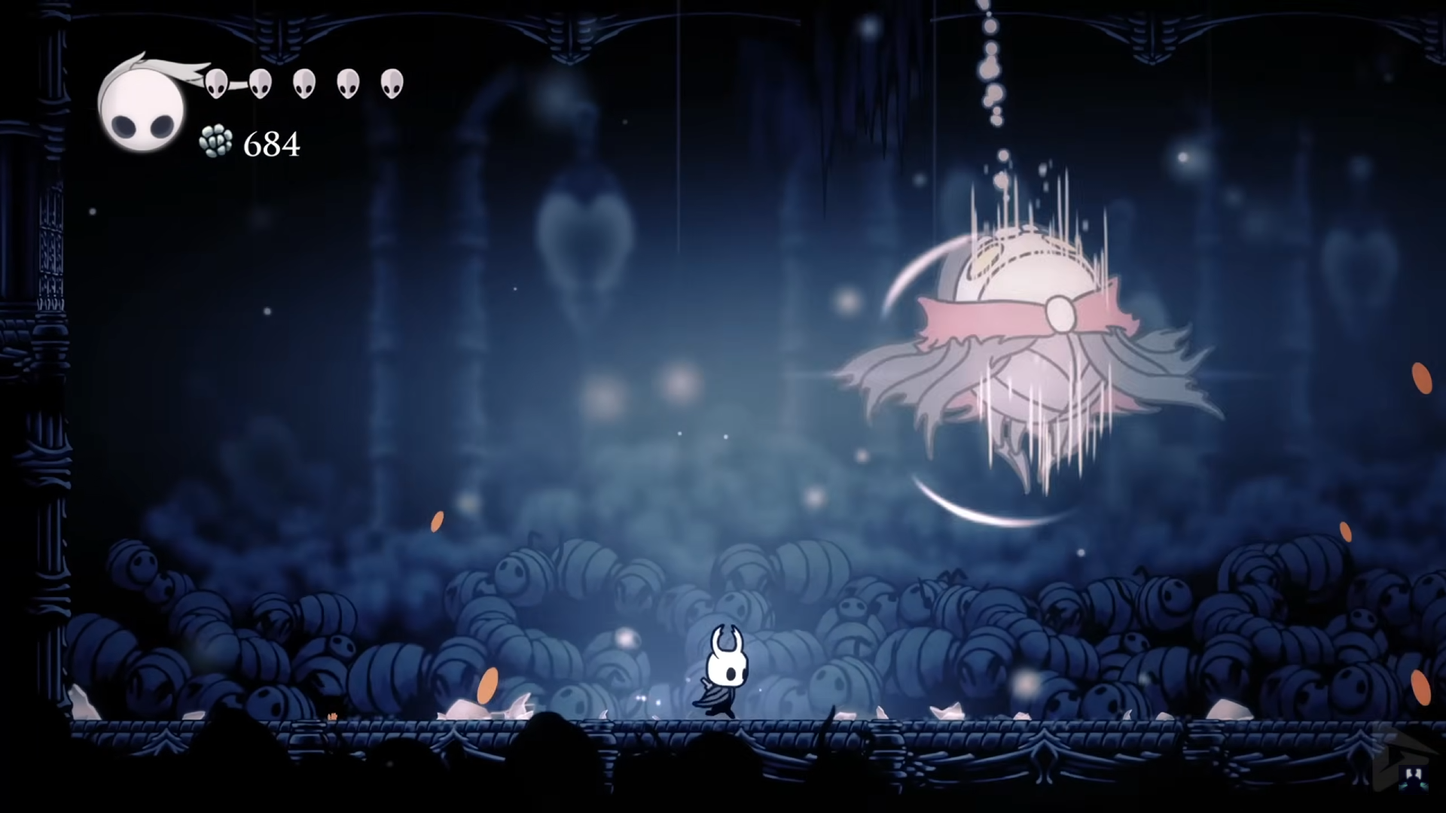HK: (695, 620, 751, 721)
